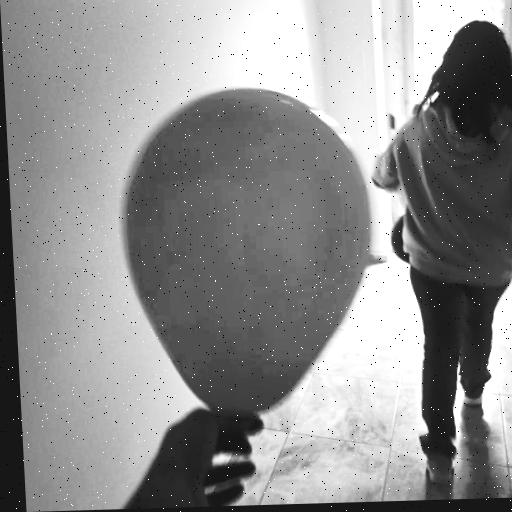balloon: (113, 84, 379, 419)
